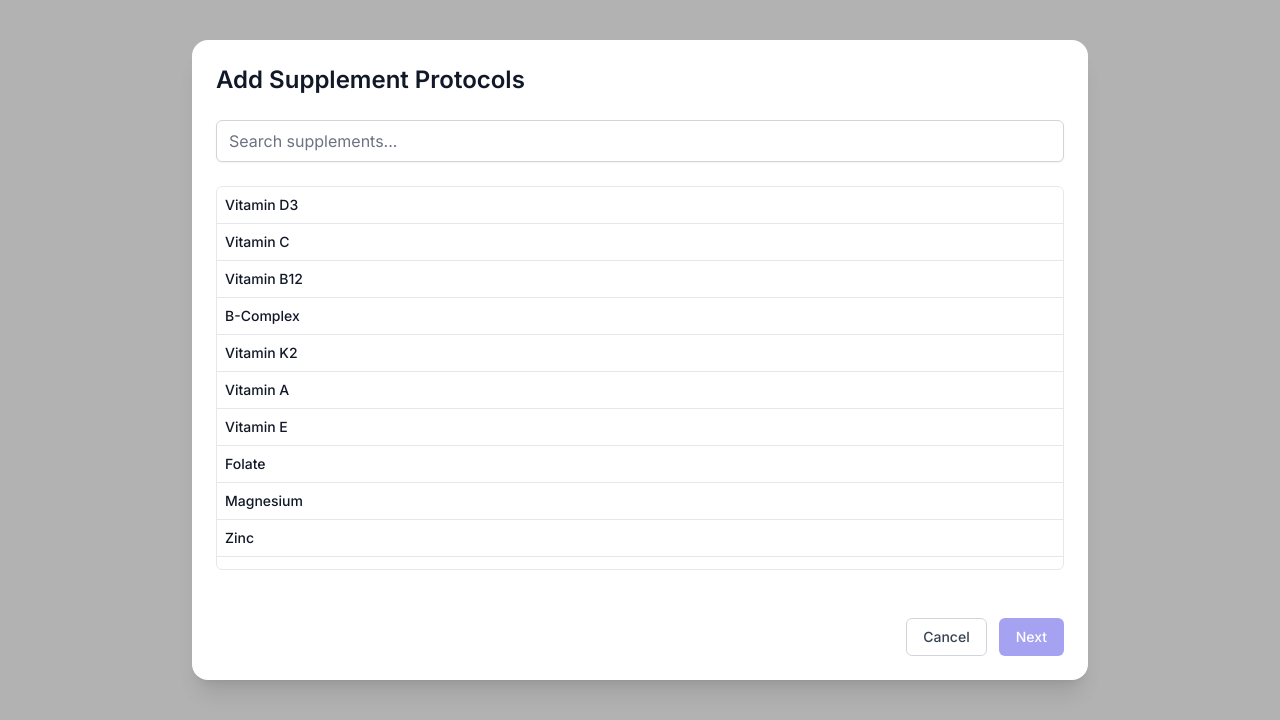
Test: AddSupplementProtocolModal › handles supplement deselection
# Select supplement
Step 1. Click the text "Vitamin D3" → [262, 204], box x1=225 y1=196 x2=298 y2=213
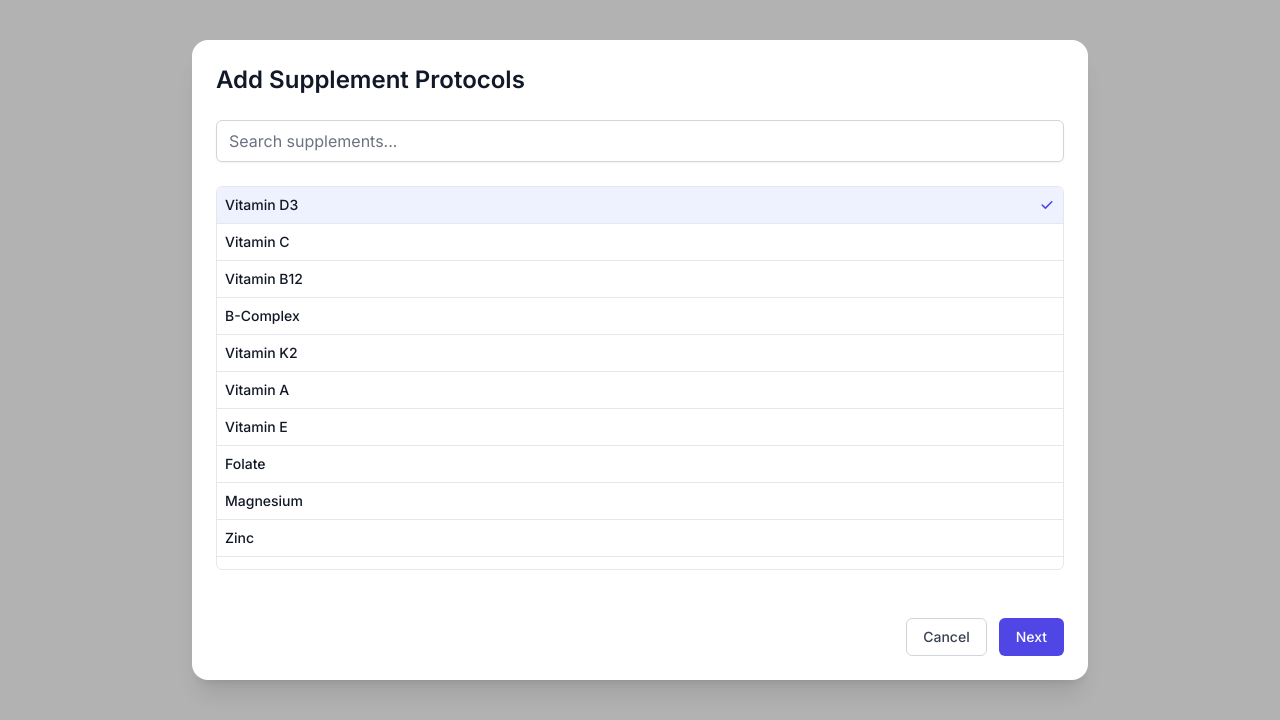
Now the button "Next" is enabled, box x1=999 y1=618 x2=1064 y2=656
# Deselect supplement
Step 2. Click the text "Vitamin D3" → [640, 205], box x1=217 y1=187 x2=1063 y2=223
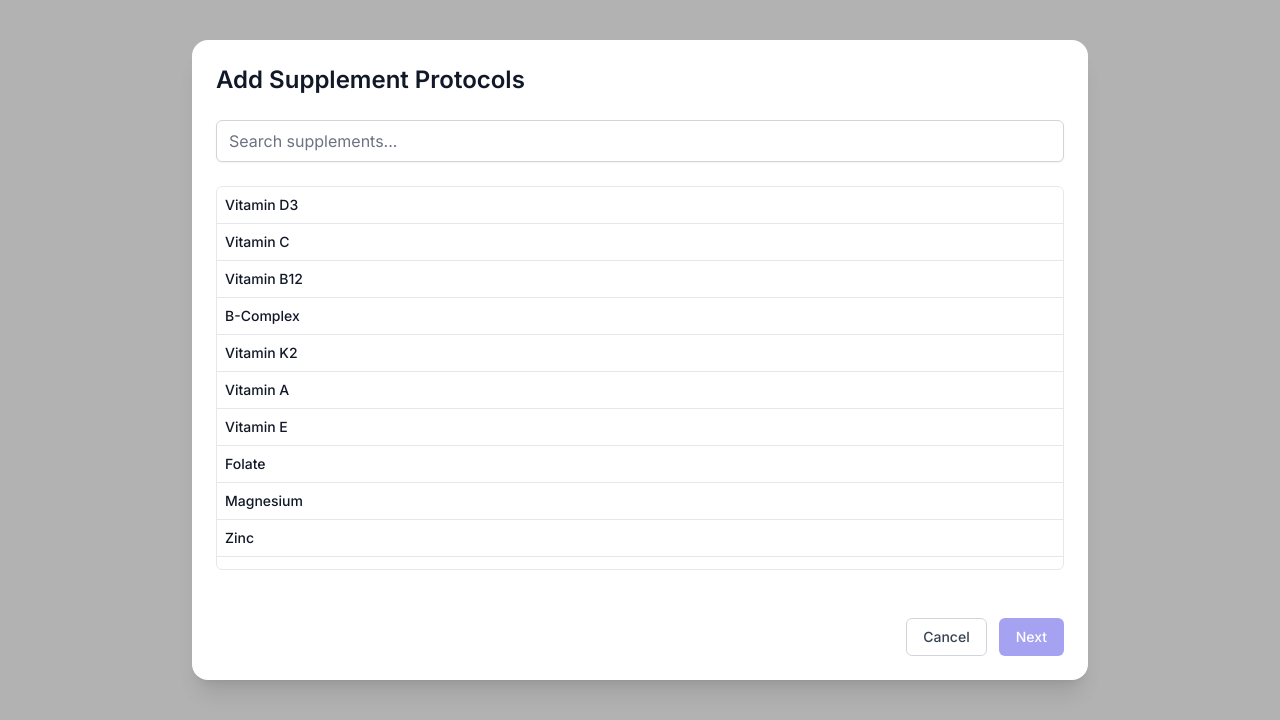
Now the button "Next" is disabled, box x1=999 y1=618 x2=1064 y2=656
